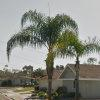Palm tree: (17, 4, 91, 91)
